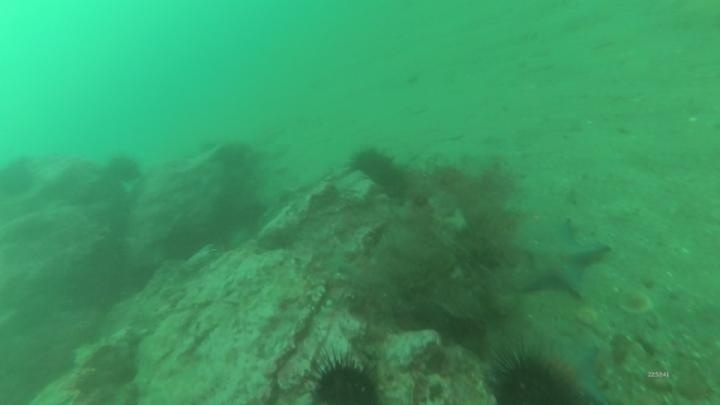echinus: (487, 349, 573, 405), (306, 352, 385, 404), (348, 145, 409, 196), (0, 156, 38, 200), (104, 152, 144, 185)
starfish: (511, 217, 611, 302), (540, 339, 610, 405)
